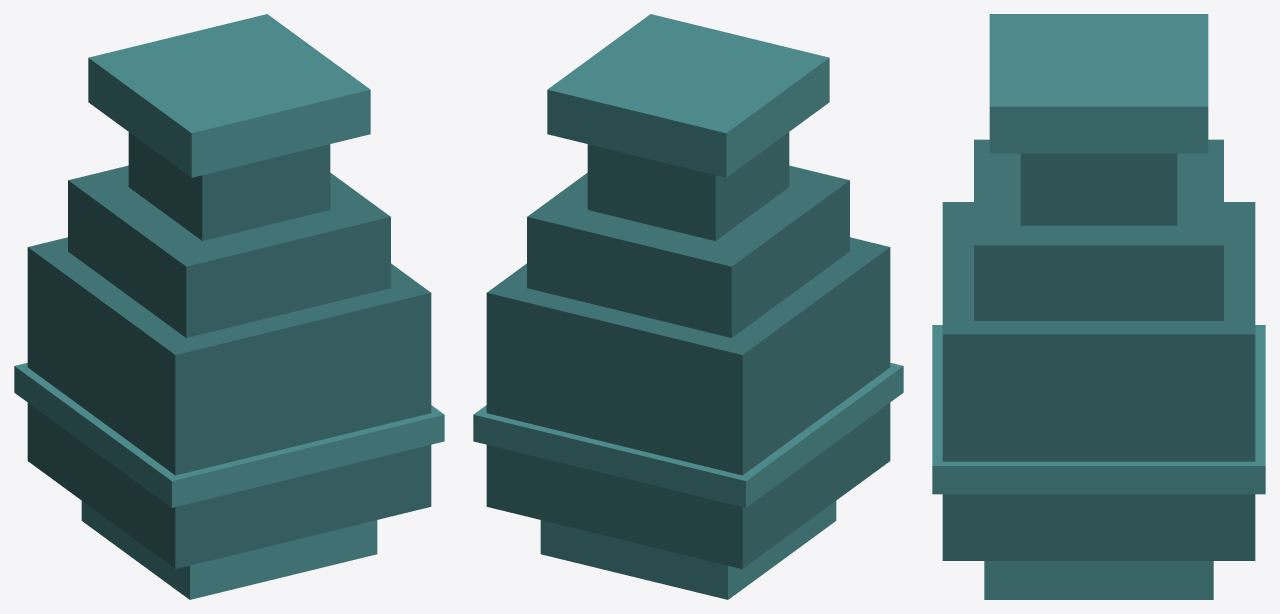
The model's file is urn.glb.
3 views of the same model, side by side, from view 1: azimuth 30°, elevation 25°; view 2: azimuth 150°, elevation 25°; view 3: azimuth 270°, elevation 25° (orthographic). The views are drawn at different scales.
Visible parts, largest first — view 1: urn; view 2: urn; view 3: urn.
Part boxes in pixels (<box>): urn: <box>14,14,444,599</box>; urn: <box>473,14,903,599</box>; urn: <box>932,14,1265,599</box>.
Bounding box in the file's own units: 0.64 × 1.04 × 0.64.
